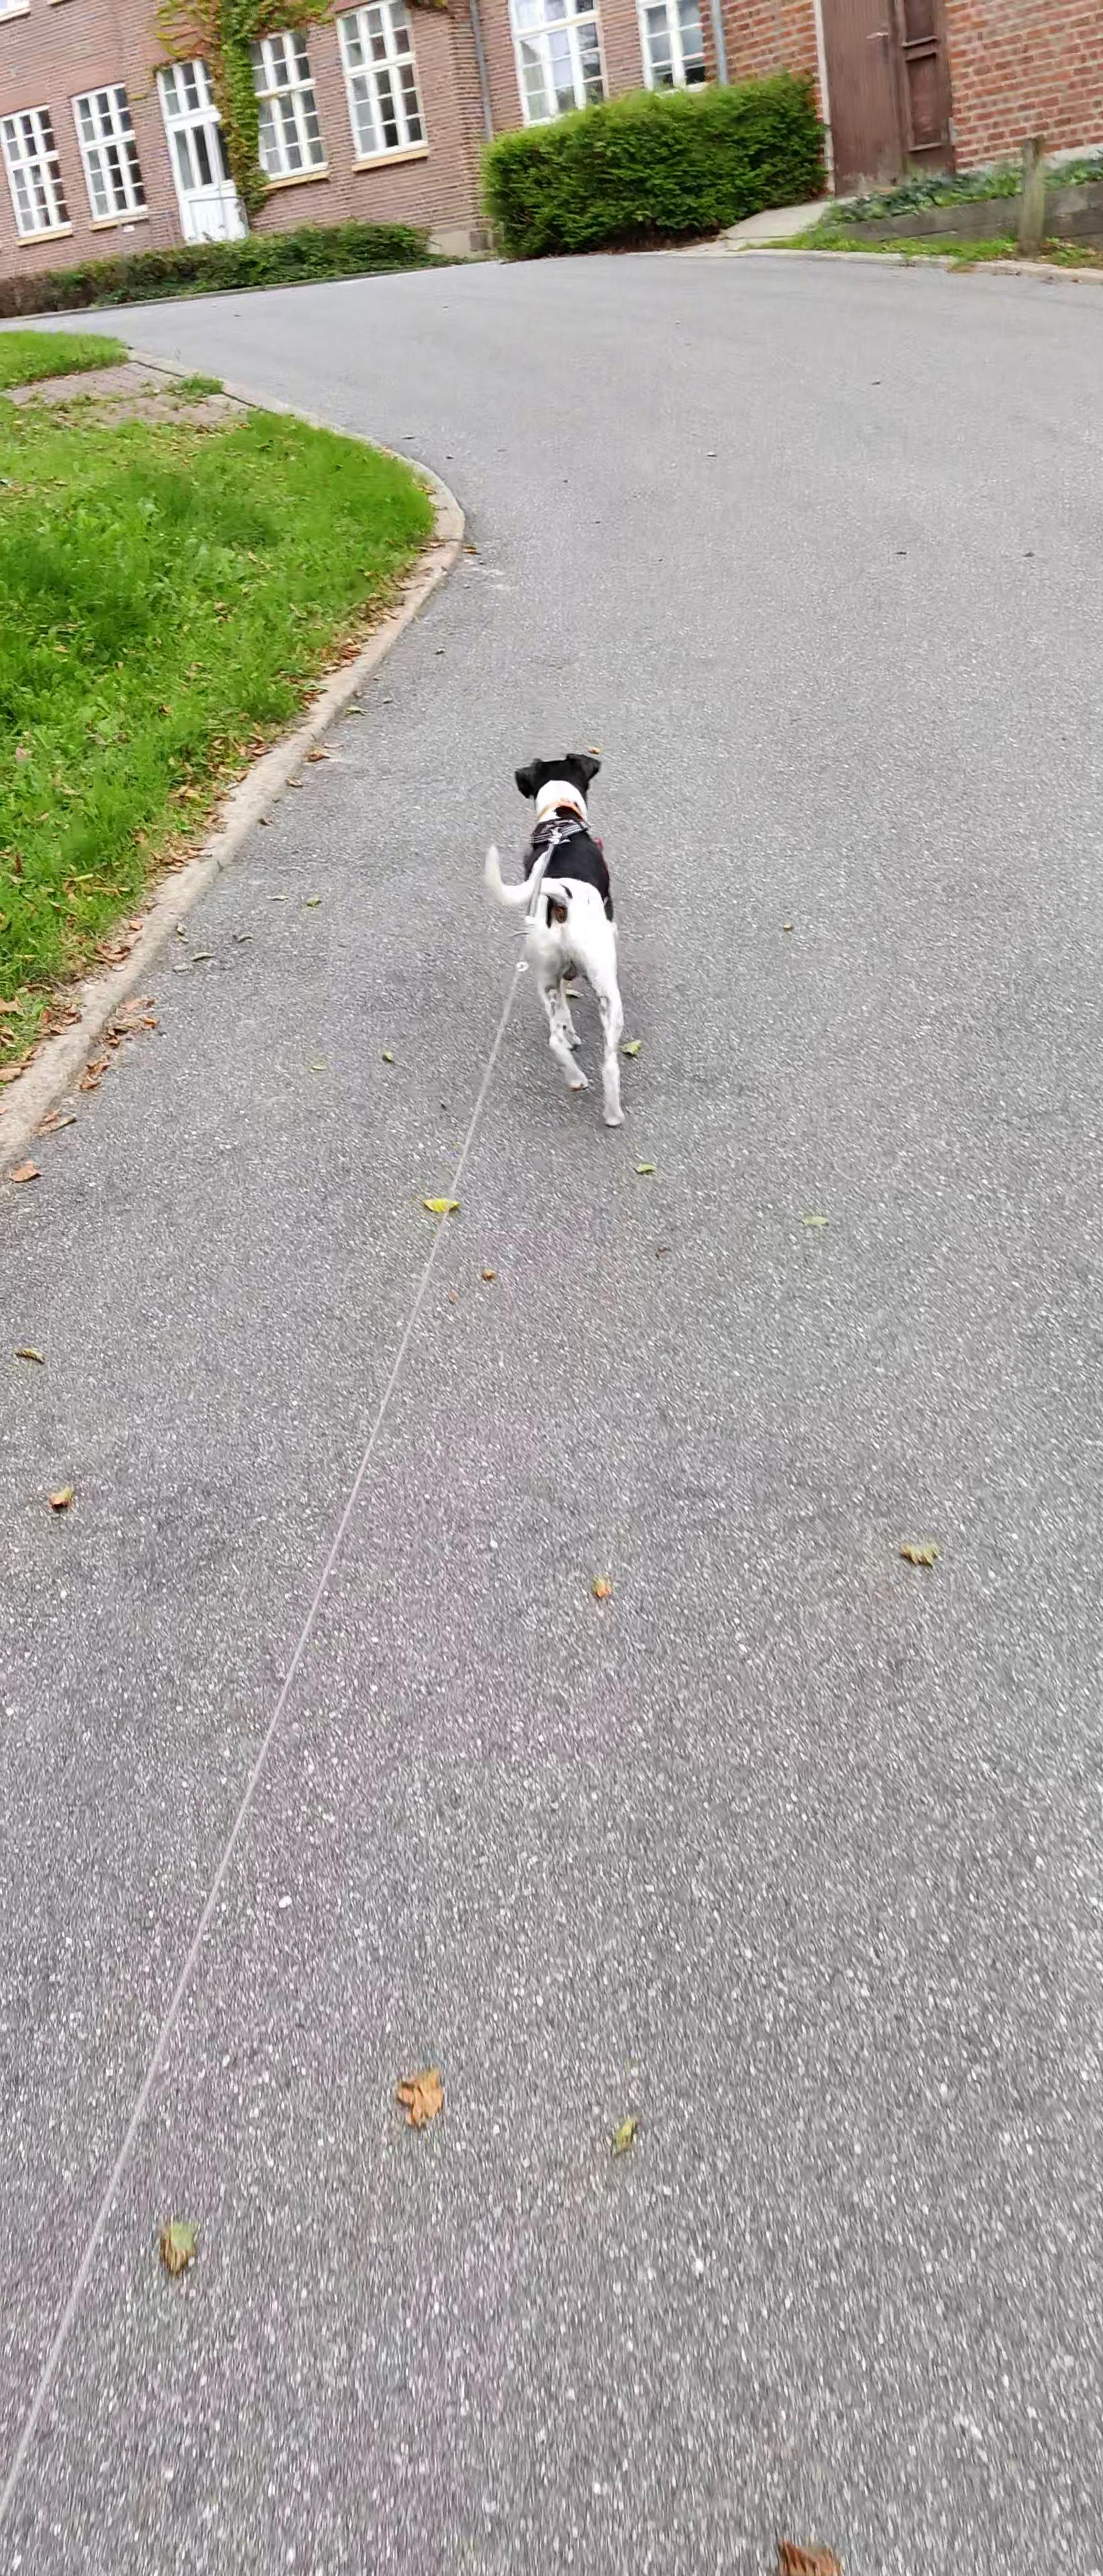Dog: (475, 749, 633, 1129)
